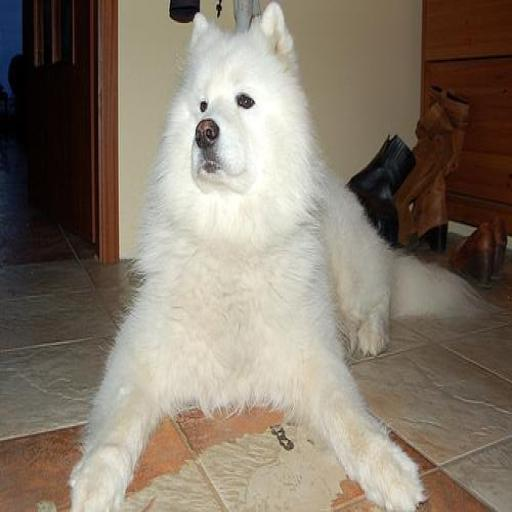dog_face: (162, 13, 294, 208)
